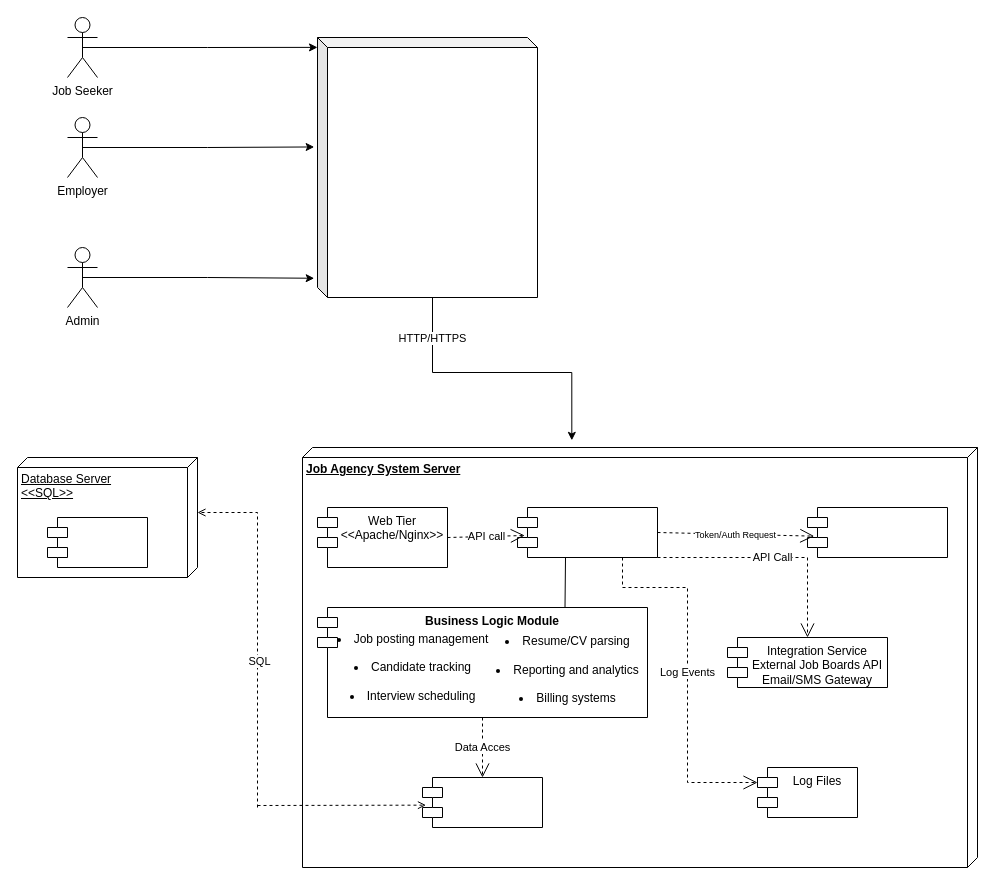
The diagram is 995 pixels wide and 885 high, and some of its shapes have lost their labels. The centre of each missing label's shape, as x and y in pixels:
Application Server <<Java/Spring/.NET>>: the point at 587,532
Authentication&Security <<<JWT/OAuth/ LDAP>>: the point at 877,532
Database Access Layer: the point at 482,802
SQL Server database: the point at 97,542
Web browser Chrome/Mozilla/Opera etc: the point at 427,167
